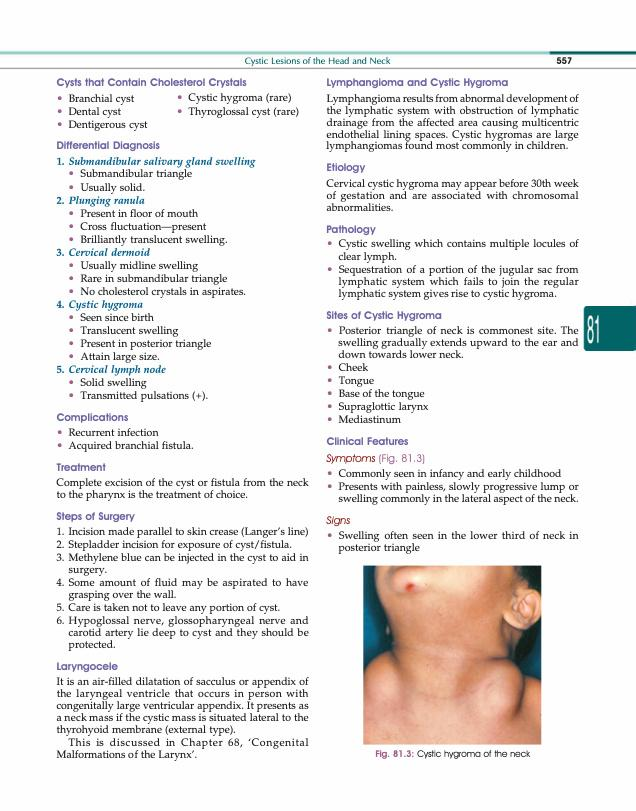caption: (374, 748, 531, 760)
header: (243, 56, 392, 67)
image: (362, 564, 542, 745)
list: (54, 154, 257, 403), (55, 526, 311, 652), (326, 324, 580, 425), (327, 237, 580, 301), (327, 466, 580, 506), (56, 426, 194, 454), (55, 92, 150, 132), (176, 91, 300, 120)
sub-section-heading: (55, 76, 248, 89), (326, 76, 509, 89), (326, 310, 442, 322), (55, 139, 161, 152), (325, 452, 425, 465), (55, 511, 136, 523), (55, 411, 129, 424), (325, 435, 410, 446), (56, 660, 119, 673), (326, 223, 377, 236), (55, 461, 108, 472), (326, 161, 367, 174), (325, 515, 352, 528)
text: (55, 676, 310, 762), (325, 92, 581, 154), (325, 177, 580, 213), (54, 476, 310, 503), (327, 529, 580, 555)
